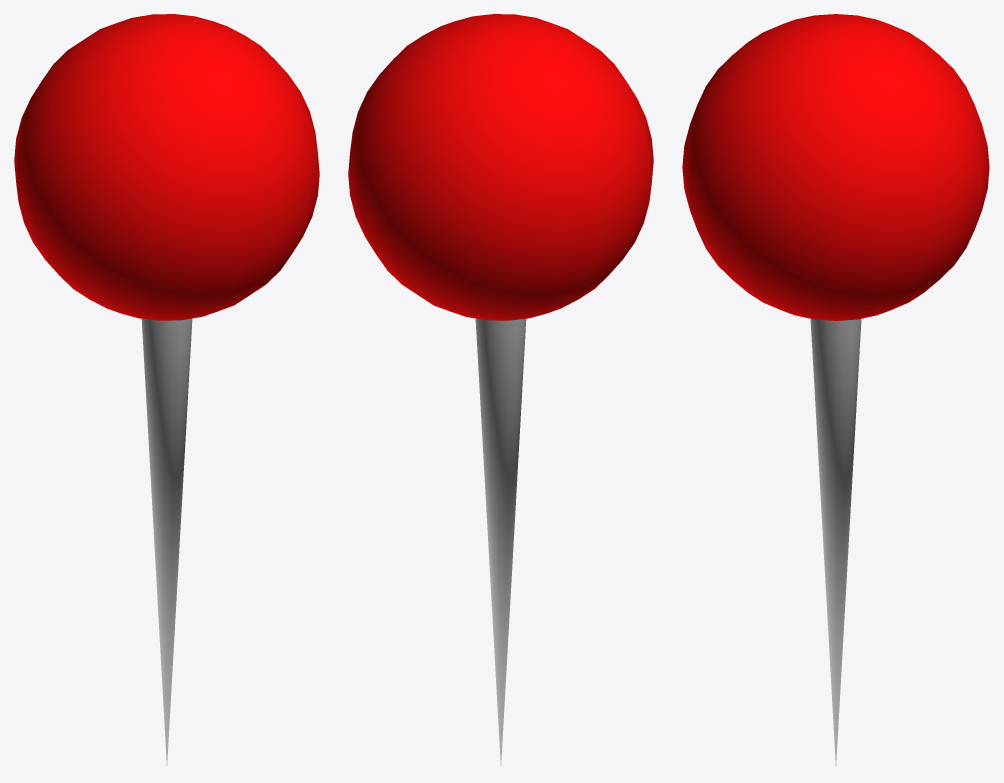
File: XR-location-pin.fbx
3 renders of one model, left to right at view 1: azimuth 30°, elevation 25°; view 2: azimuth 150°, elevation 25°; view 3: azimuth 270°, elevation 25°, orthographic.
Visible parts, largest first — view 1: pSphere1, pCone1; view 2: pSphere1, pCone1; view 3: pSphere1, pCone1.
Boxes of the visible parts, x1,y1,x2,y2 form: pSphere1: [14, 14, 319, 320]; pCone1: [141, 318, 192, 765]; pSphere1: [348, 14, 653, 320]; pCone1: [475, 318, 526, 765]; pSphere1: [682, 14, 989, 320]; pCone1: [810, 319, 861, 765].
Bounding box in the file's own units: 2.27 × 6.05 × 2.27.
